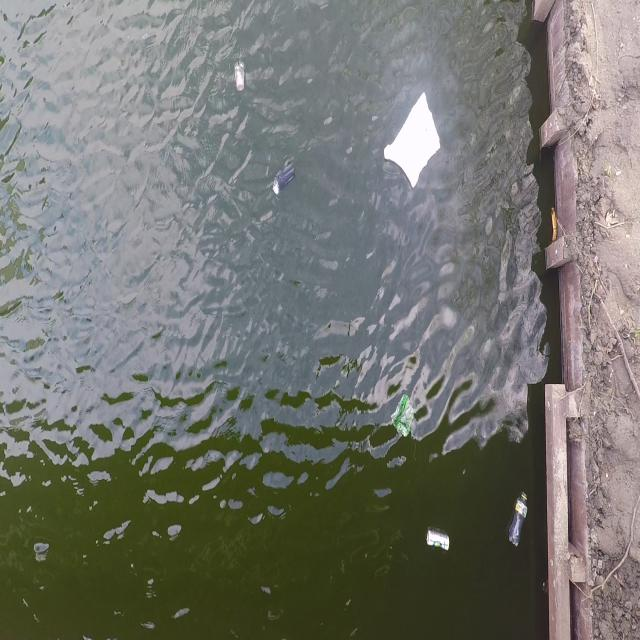Autre plastique: (378, 88, 448, 191)
Bouteille plastique: (503, 482, 533, 552)
Non plastique: (422, 524, 452, 558)
Sac plastique: (388, 396, 419, 441)
